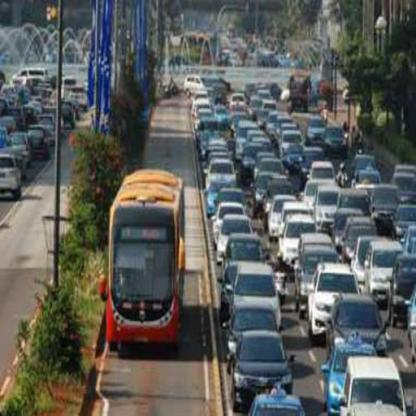bus: (107, 172, 183, 354)
car: (342, 356, 409, 415), (226, 265, 280, 328), (307, 261, 358, 325), (332, 294, 382, 354), (236, 331, 289, 382), (0, 155, 25, 202)
